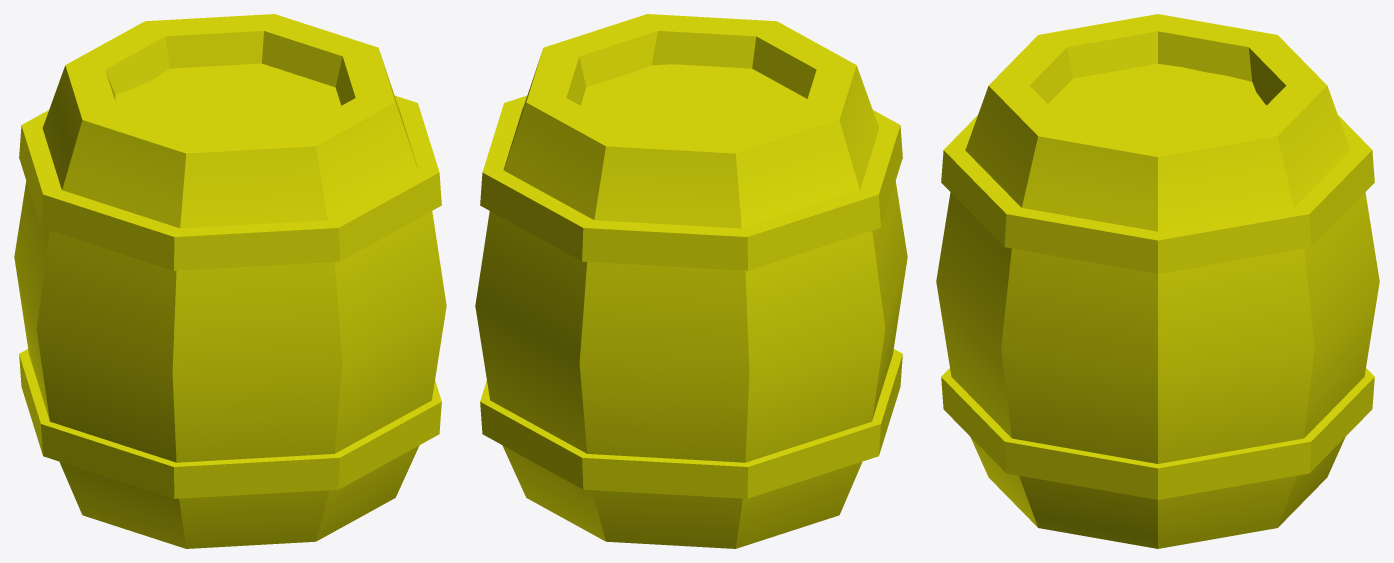
The picture shows the model from 3 angles, left to right: view 1: azimuth 30°, elevation 25°; view 2: azimuth 150°, elevation 25°; view 3: azimuth 270°, elevation 25°; orthographic projection.
Visible parts, largest first — view 1: thunggo; view 2: thunggo; view 3: thunggo.
Boxes of the visible parts, box(x1,y1,x2,y2) form: thunggo: box(14, 14, 446, 548); thunggo: box(475, 14, 907, 548); thunggo: box(936, 14, 1379, 548).
Size of the model in its own units: 2.54 by 2.47 by 2.54.
1 material, 1 textured.
